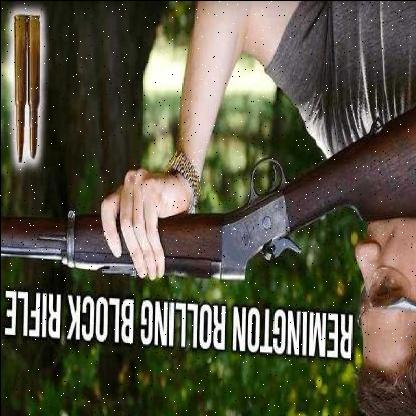rifle: (1, 102, 416, 307)
